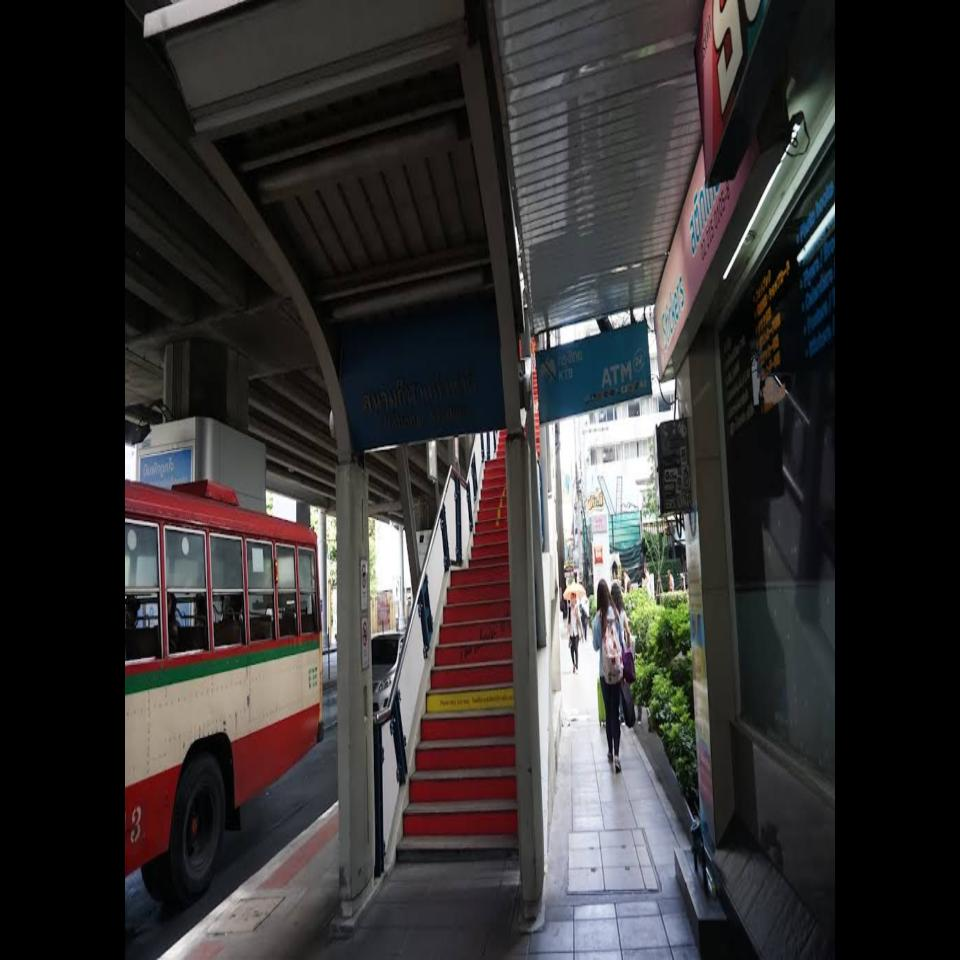signage: (341, 336, 507, 449)
